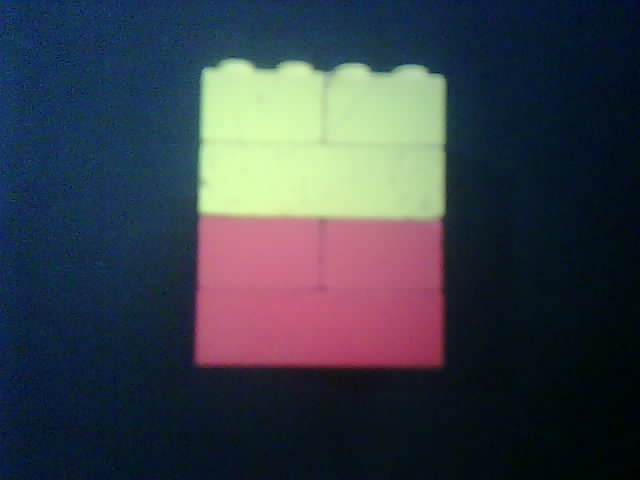lego: (190, 57, 448, 375)
